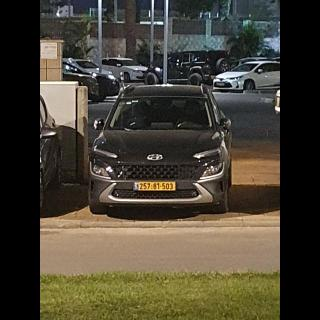LicensePlate: (139, 182, 175, 190)
